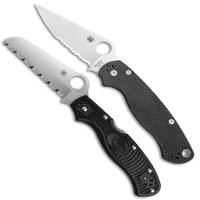knife: (4, 2, 196, 193)
